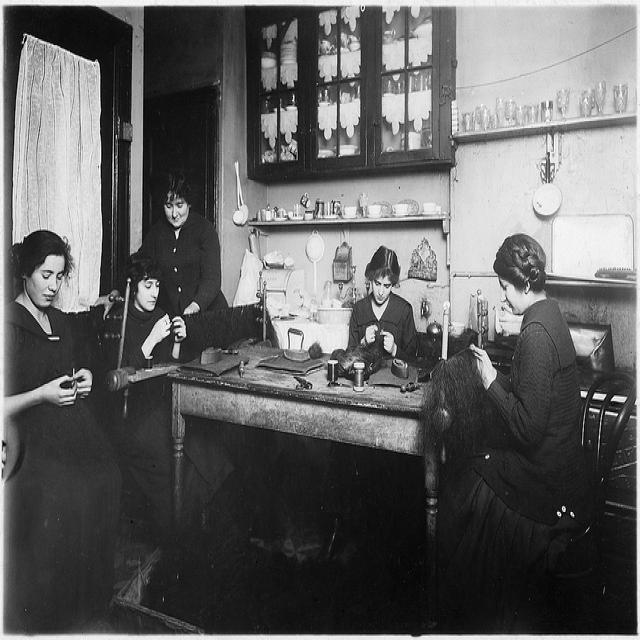chair: (540, 372, 634, 633), (88, 297, 180, 419), (604, 415, 638, 526)
dining table: (165, 340, 440, 627)
